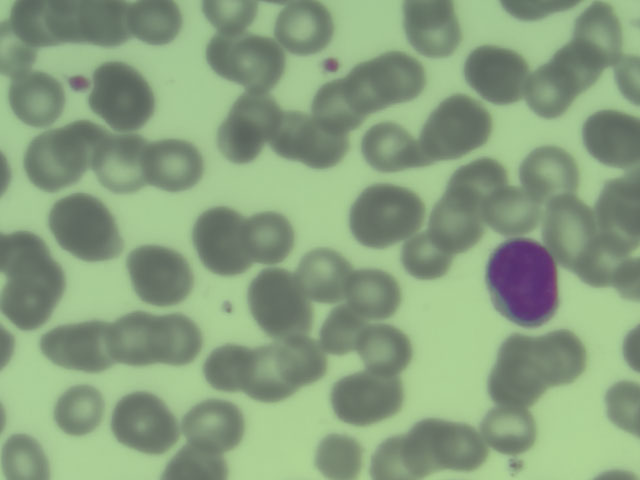Platelets: (67, 69, 94, 97), (316, 55, 341, 75)
RBC: (49, 196, 109, 256), (428, 94, 486, 155), (189, 207, 243, 271), (354, 186, 414, 243), (543, 196, 593, 262), (337, 371, 400, 421), (115, 394, 171, 448), (134, 249, 188, 303), (583, 110, 640, 156), (364, 429, 415, 480), (243, 212, 294, 262), (189, 399, 240, 449), (1, 429, 51, 480), (52, 386, 103, 436), (33, 324, 84, 374), (62, 322, 113, 372), (110, 314, 161, 364), (152, 312, 203, 362), (279, 1, 330, 51), (373, 52, 424, 102), (338, 62, 389, 112), (315, 78, 366, 128), (299, 119, 350, 169), (209, 114, 260, 164), (268, 109, 319, 159), (230, 90, 281, 140), (234, 40, 285, 90), (206, 27, 257, 77), (145, 142, 196, 192), (95, 138, 146, 188), (56, 119, 107, 169), (23, 135, 74, 185), (101, 71, 152, 121), (10, 74, 61, 124), (550, 40, 601, 90), (524, 64, 575, 114), (470, 47, 521, 97), (408, 4, 459, 54), (574, 238, 625, 288), (523, 147, 574, 197), (487, 184, 538, 234), (447, 157, 498, 207), (425, 198, 476, 248), (399, 230, 450, 280), (317, 310, 368, 360), (359, 326, 410, 376), (275, 338, 326, 388), (241, 348, 292, 398), (203, 342, 254, 392), (252, 274, 303, 324), (346, 267, 397, 317), (300, 248, 351, 298), (359, 124, 410, 174), (538, 333, 589, 383), (503, 338, 554, 388), (486, 360, 537, 410), (485, 403, 536, 453), (573, 5, 624, 55), (438, 423, 489, 473), (401, 419, 452, 469), (315, 429, 366, 479), (1, 225, 51, 275), (131, 1, 182, 50), (84, 1, 135, 50), (44, 1, 95, 50), (597, 173, 640, 229), (166, 443, 230, 480), (605, 374, 640, 439), (16, 260, 64, 305), (11, 1, 59, 46), (203, 1, 259, 34), (1, 288, 46, 328), (1, 21, 36, 64)
WBC: (481, 234, 564, 330)
